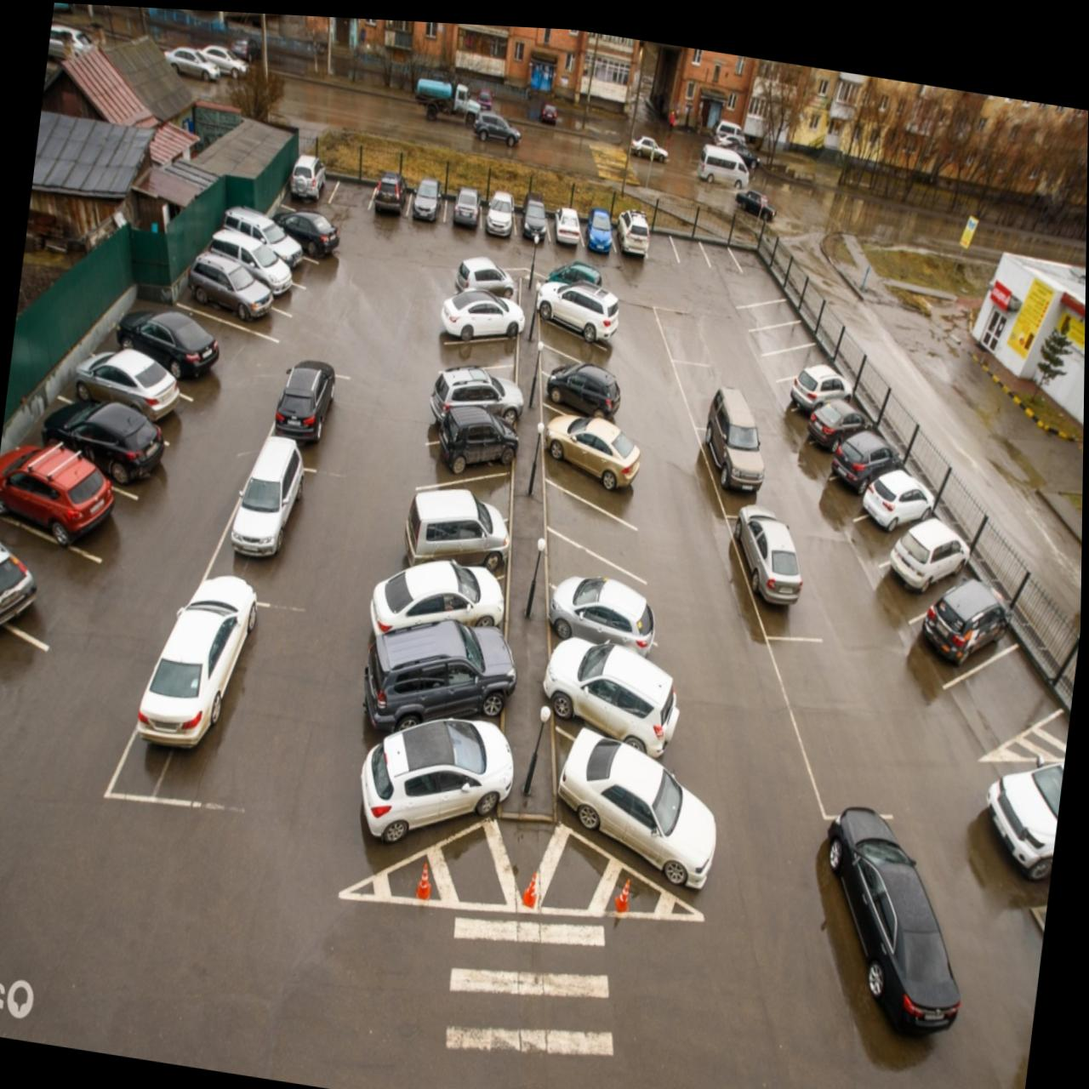cars: (136, 566, 267, 809), (338, 717, 503, 893), (555, 728, 723, 899), (346, 603, 512, 732), (540, 635, 697, 754), (221, 430, 318, 590), (0, 428, 122, 555), (536, 574, 670, 672), (370, 565, 507, 652), (721, 511, 815, 636), (79, 340, 194, 440), (905, 574, 1011, 682), (45, 392, 165, 487), (386, 505, 508, 589), (125, 301, 228, 397), (0, 509, 79, 632), (877, 513, 980, 607), (207, 221, 303, 314), (226, 205, 324, 296), (688, 418, 773, 519), (185, 244, 279, 335), (532, 449, 639, 521), (852, 468, 938, 557), (422, 371, 523, 444), (420, 417, 521, 488), (539, 409, 647, 468), (528, 278, 624, 344), (286, 362, 340, 465), (826, 432, 902, 503), (540, 370, 627, 424), (268, 197, 340, 262), (401, 169, 456, 247), (442, 292, 525, 343), (788, 372, 851, 439), (508, 183, 565, 254), (538, 258, 619, 304), (455, 265, 524, 318), (803, 404, 868, 460), (778, 354, 843, 409), (579, 195, 627, 268), (283, 143, 332, 214), (543, 196, 594, 261), (367, 166, 417, 232), (608, 208, 659, 269), (480, 188, 527, 250), (444, 178, 489, 242)
empty: (763, 634, 891, 799), (941, 641, 1064, 761), (541, 484, 662, 569), (537, 526, 656, 610), (153, 274, 249, 354), (404, 460, 515, 528), (729, 269, 812, 348), (744, 293, 822, 375), (430, 343, 522, 403), (534, 311, 625, 370), (428, 319, 528, 372), (541, 344, 621, 397), (695, 220, 757, 286), (724, 232, 782, 300), (759, 332, 832, 386), (665, 220, 720, 283), (326, 160, 376, 219), (637, 213, 686, 273)
